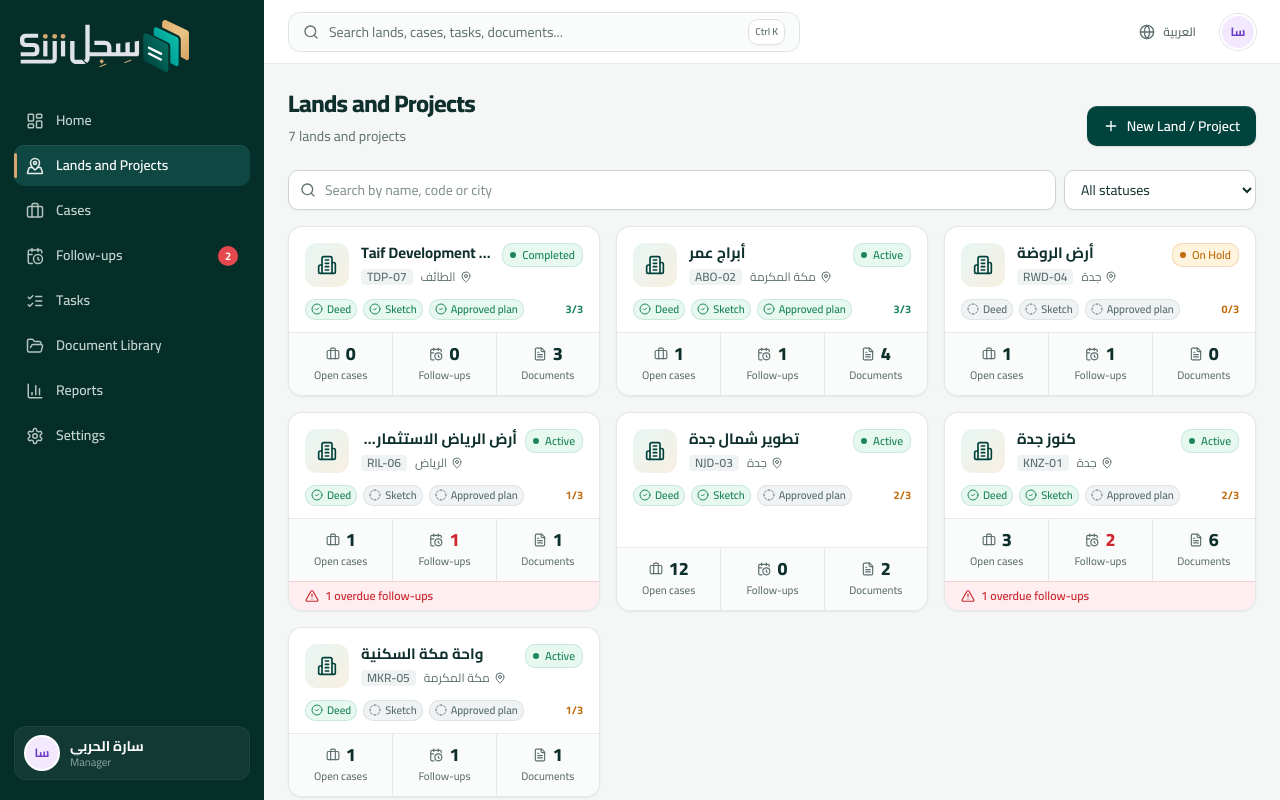
lands › lets a manager create a land; the name is required
Click the button "New Land / Project".
click(1171, 126)  # box 1087,106 -> 1256,146
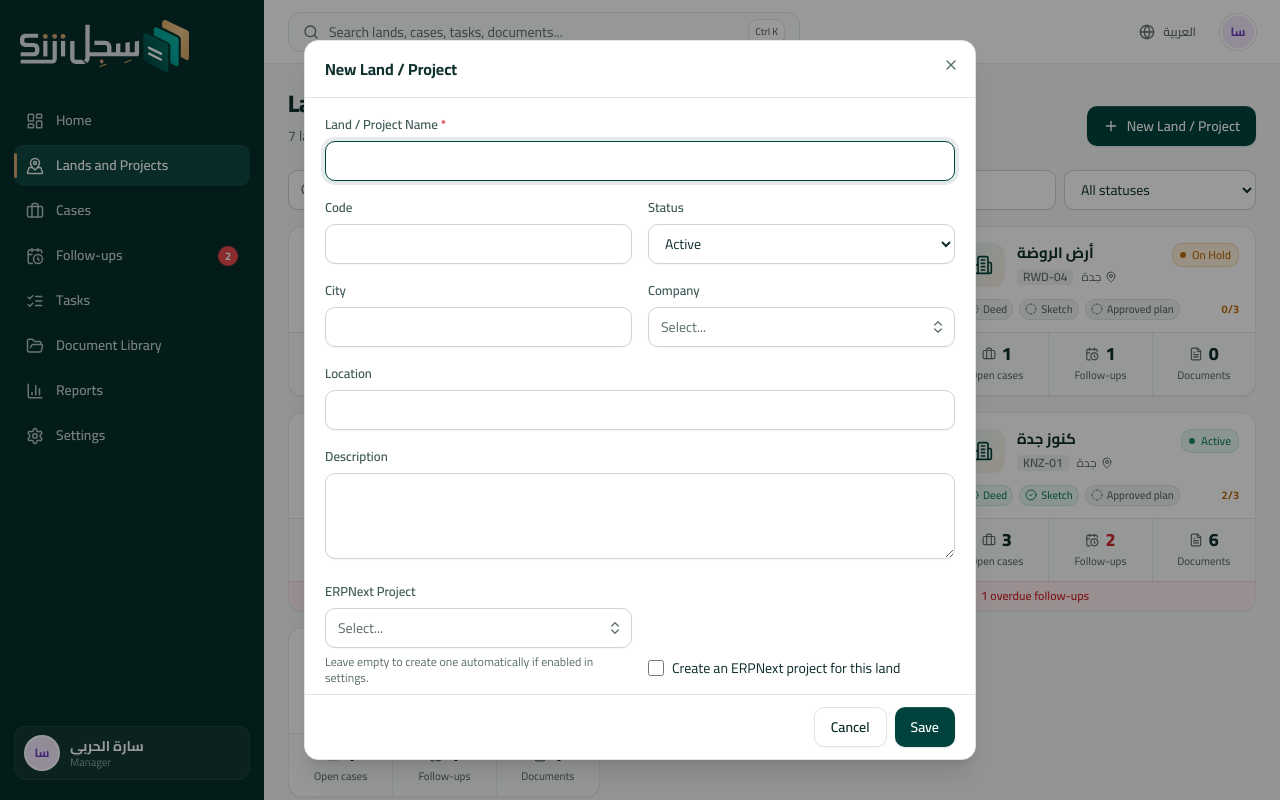
Click the button "Save".
click(925, 727)  # box 894,707 -> 955,747
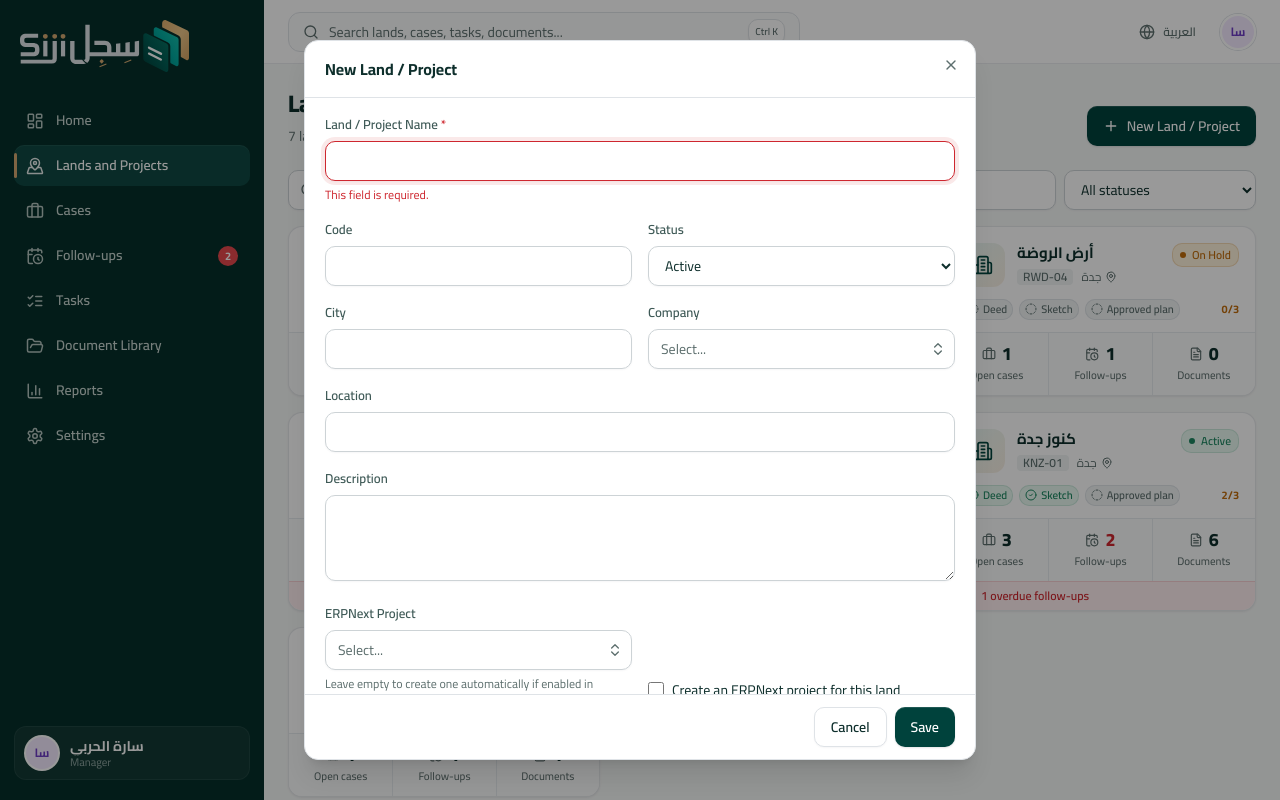
expect the text "This field is required." is shown: met, box 325,183 -> 429,206
Type "Jazan Coastal Plot" into the field labelled "Land / Project Name *".
click(640, 161); type("Jazan Coastal Plot")  # box 325,141 -> 955,181
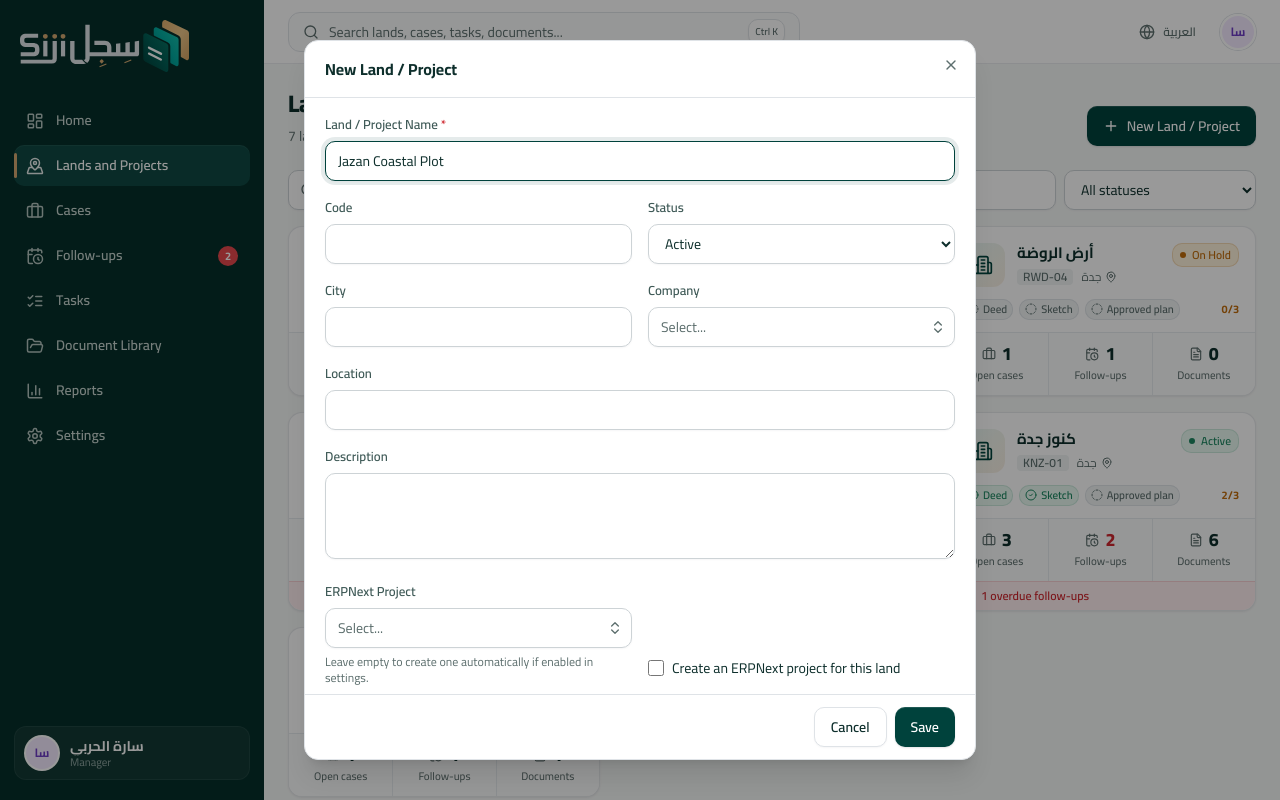
Click the button "Save".
click(925, 727)  # box 894,707 -> 955,747
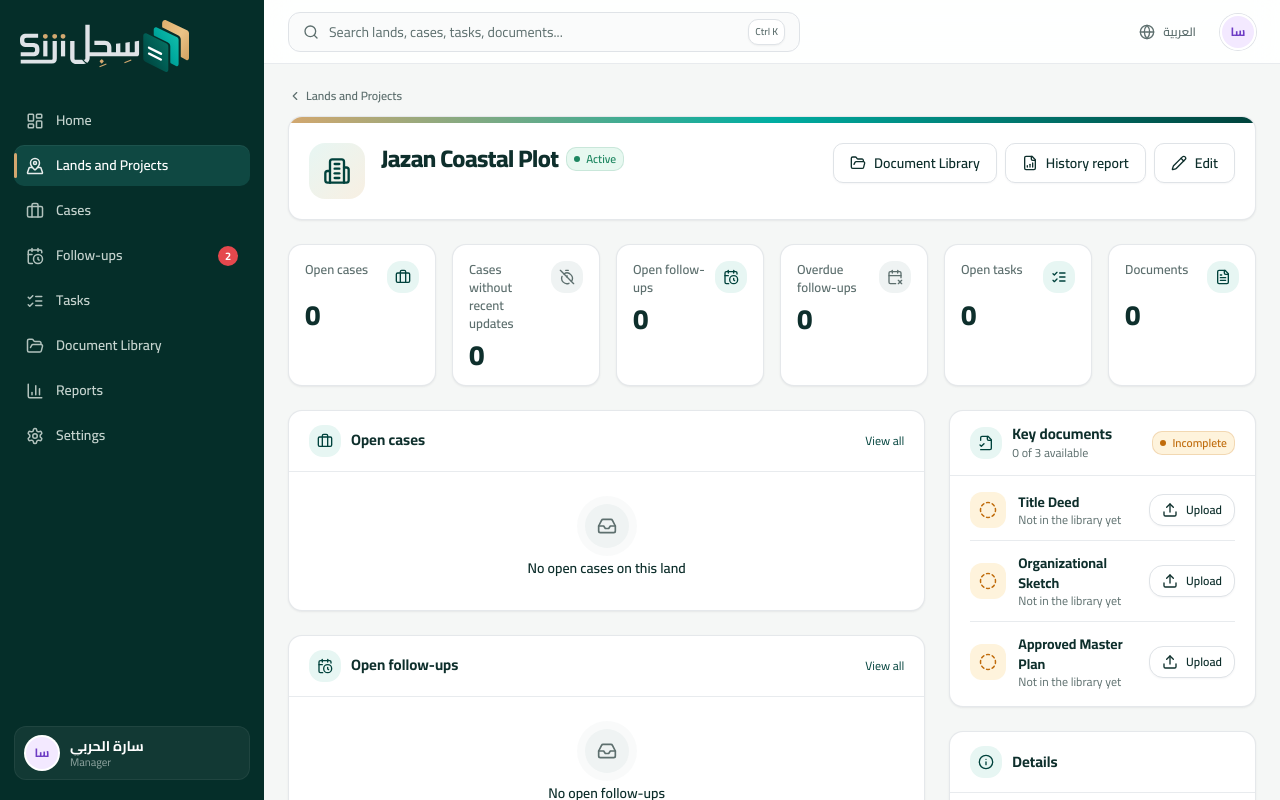
expect the heading "Jazan Coastal Plot" is shown: met, box 381,143 -> 558,175
